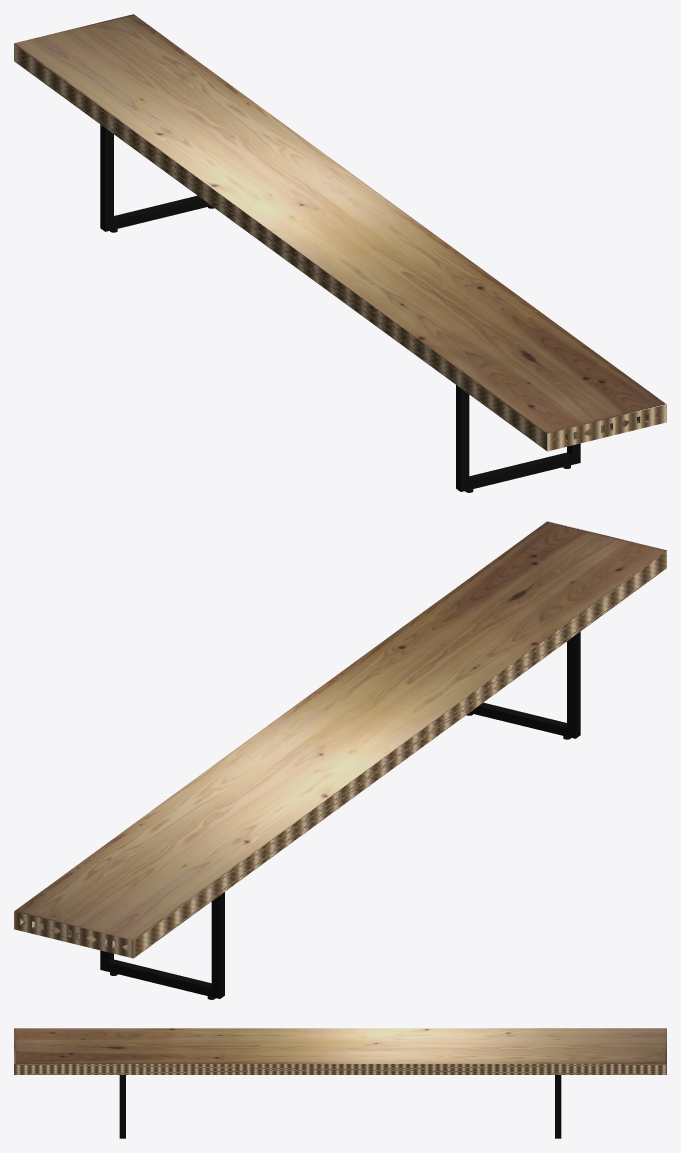
Rendered from tv_table.dae.
The picture shows the model from 3 angles, top to bottom: view 1: azimuth 30°, elevation 25°; view 2: azimuth 150°, elevation 25°; view 3: azimuth 270°, elevation 25°; orthographic projection. The views are drawn at different scales.
Parts seen in each view (by area): view 1: table1, table, foot (×2); view 2: table1, table, foot (×2); view 3: table1, table, foot (×2).
Part boxes in pixels (<box>): table1: <box>14,14,666,433</box>; table: <box>14,43,666,451</box>; foot (×2): <box>100,124,580,491</box>; table1: <box>14,521,666,940</box>; table: <box>14,550,666,958</box>; foot (×2): <box>100,631,580,998</box>; table1: <box>14,1028,666,1063</box>; table: <box>14,1064,666,1074</box>; foot (×2): <box>119,1075,561,1138</box>.
Bounding box in the file's own units: 13.78 × 106 × 13.78.
Materials: 2 (1 with a texture image).
